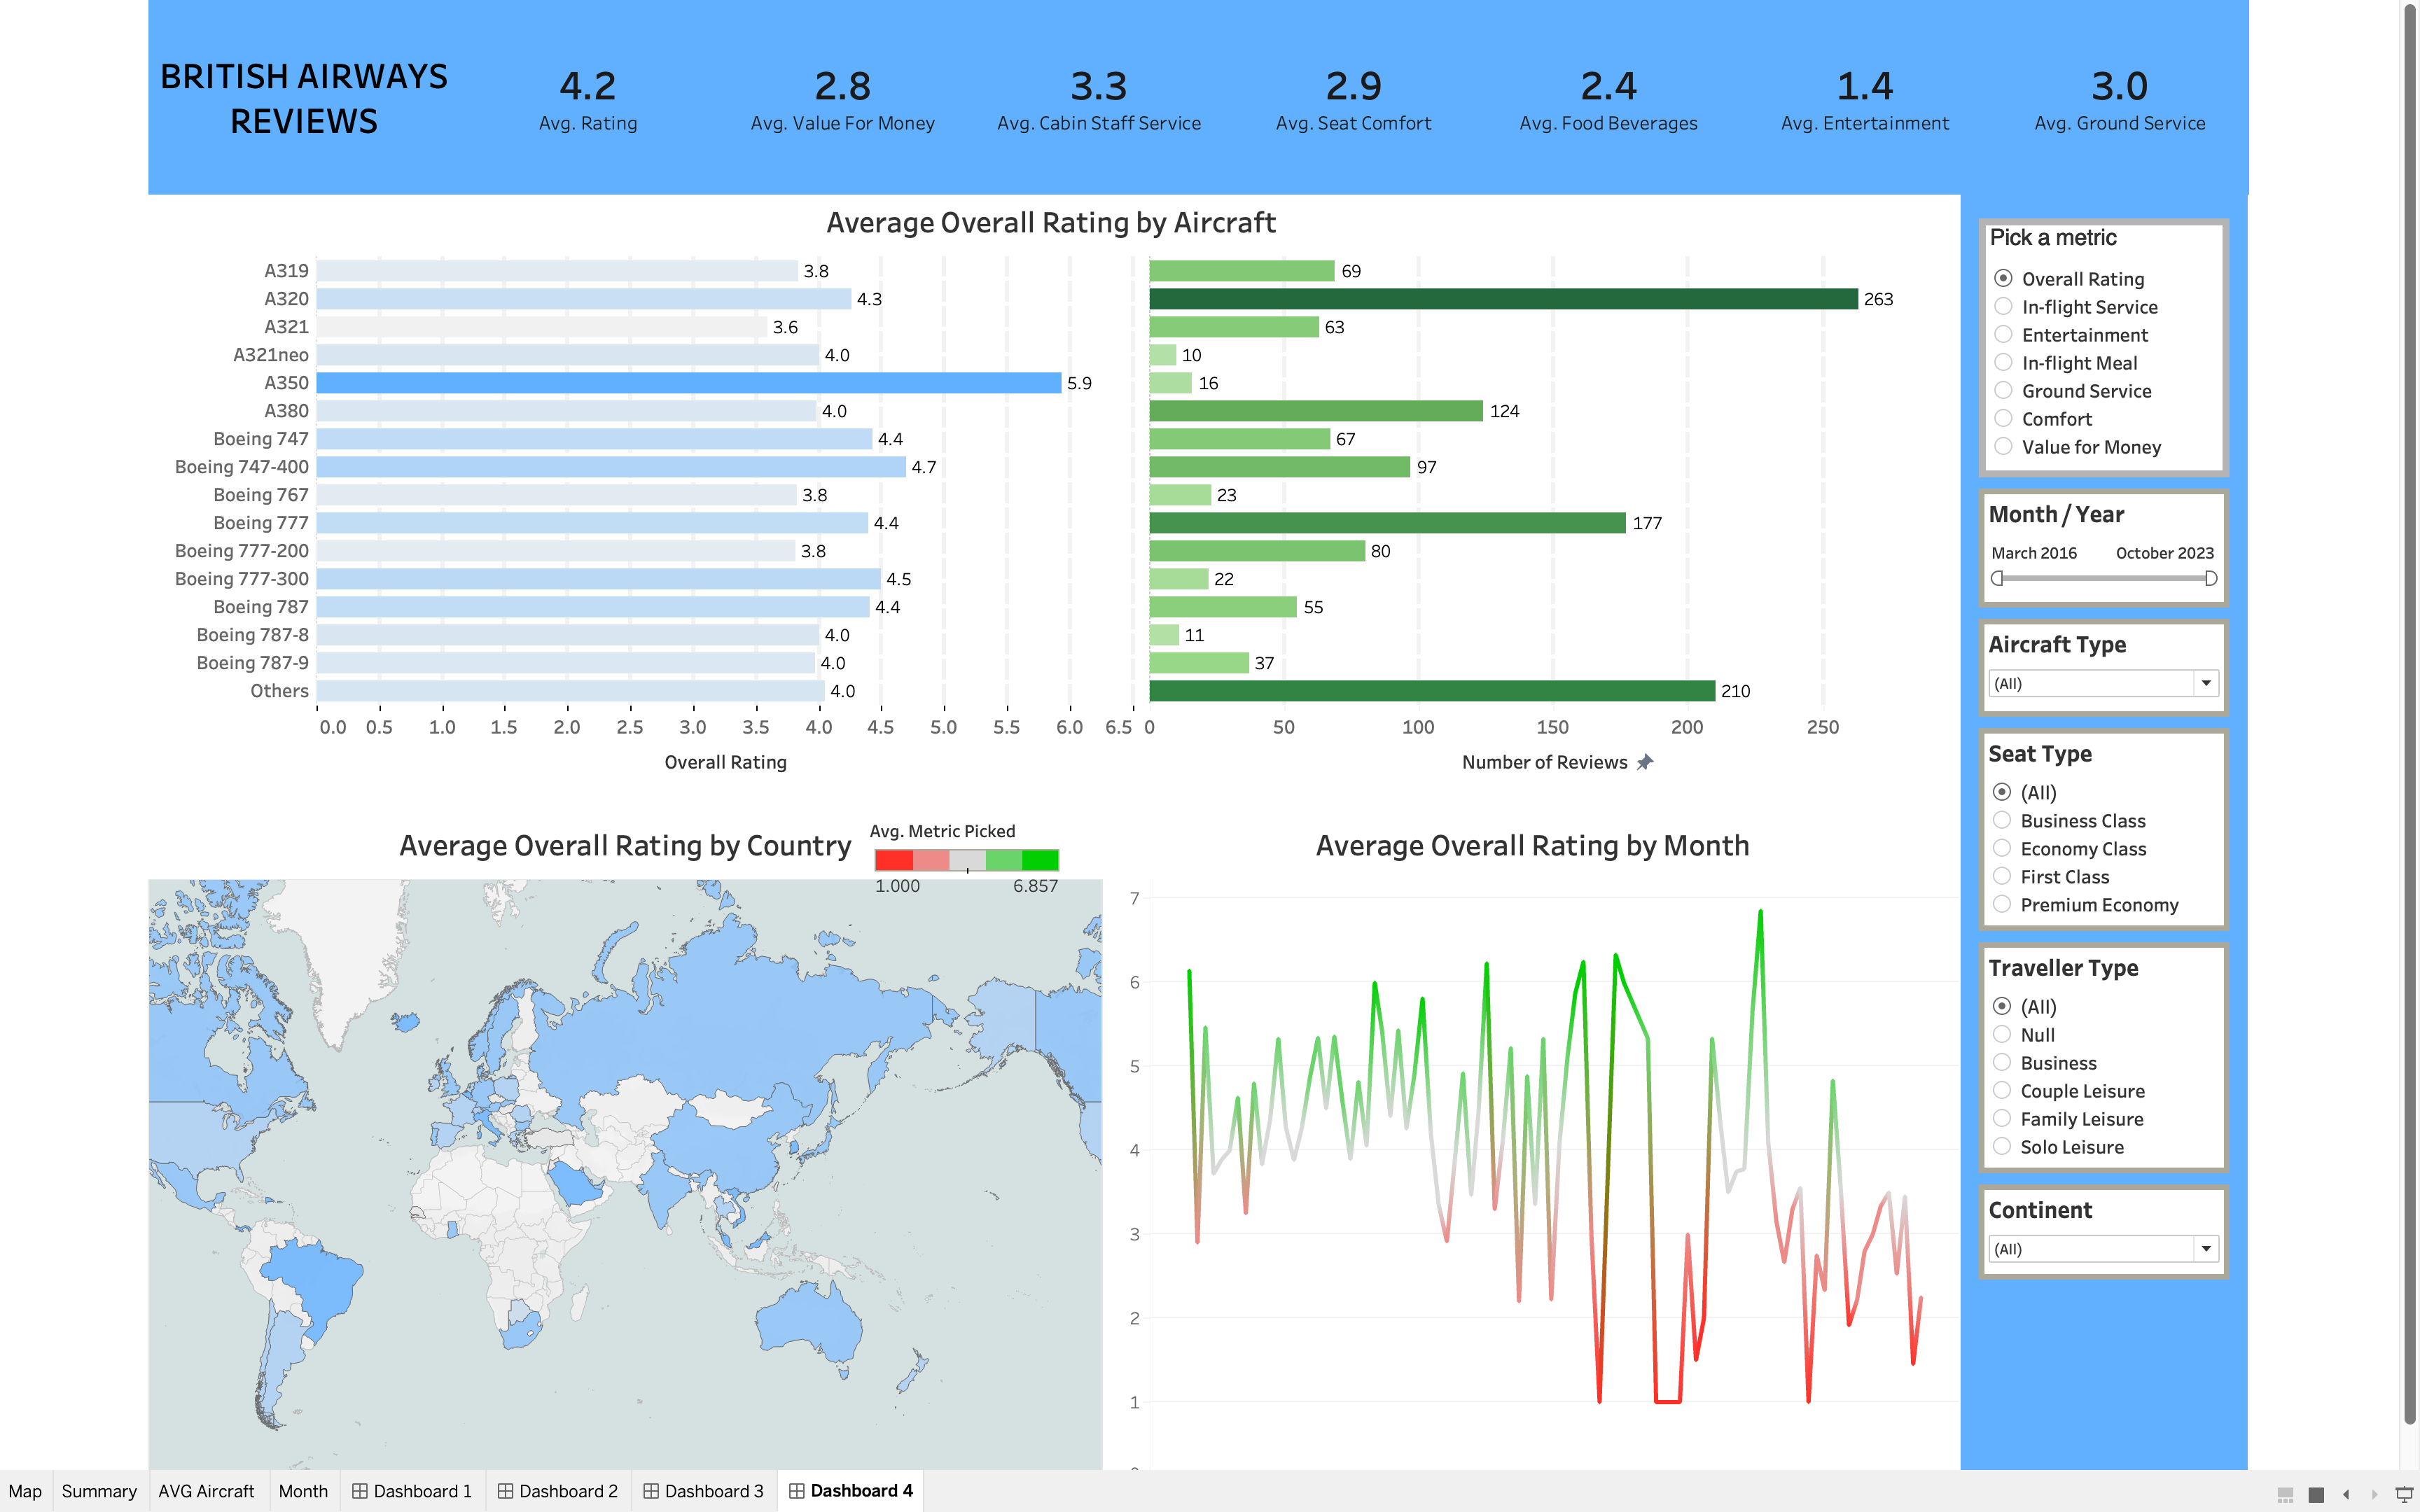

Layout of this report page (visuals, bound fields, positions):
{"tool":"tableau","page":{"name":"Dashboard 4","canvas":[1500,1080],"ordinal":3},"visuals":[{"type":"text","box":[0,0,223.4,139]},{"type":"worksheet","title":"Summary","mark":"Automatic","box":[223,0,1277,139]},{"type":"worksheet","title":"AVG Aircraft","mark":"Automatic","cols":["Calculation_898468168573546498","ba_reviews.csv_0AE771B795694863B366D2EED4C253A7"],"box":[0,140,1290,435]},{"type":"parameter","param":"[Parameters].[Parameter 1]","box":[1303,148,187,197]},{"type":"filter","title":"Map","param":"[federated.1e3s0g01hr8xs614hx1d90yz8qfn].[tmn:date:qk]","box":[1303,345,187,93]},{"type":"filter","title":"Map","param":"[federated.1e3s0g01hr8xs614hx1d90yz8qfn].[Aircraft (group)]","box":[1303,438,187,78]},{"type":"filter","title":"Map","param":"[federated.1e3s0g01hr8xs614hx1d90yz8qfn].[none:seat_type:nk]","box":[1303,516,187,153]},{"type":"filter","title":"Map","param":"[federated.1e3s0g01hr8xs614hx1d90yz8qfn].[none:traveller_type:nk]","box":[1303,669,187,173]},{"type":"filter","title":"Map","param":"[federated.1e3s0g01hr8xs614hx1d90yz8qfn].[none:Continent:nk]","box":[1303,842,187,76]}]}

Visuals, with their boxes on the page's 1500x1080 design canvas (x1, y1, x2, y2). These are canvas units, not pixel positions in the 2420x1512 screenshot, which may show the page scaled, cropped or inside an application window:
text: bbox=[0, 0, 223, 139]
"Summary" worksheet: bbox=[223, 0, 1500, 139]
"AVG Aircraft" worksheet: bbox=[0, 140, 1290, 575]
parameter: bbox=[1303, 148, 1490, 345]
"Map" filter: bbox=[1303, 345, 1490, 438]
"Map" filter: bbox=[1303, 438, 1490, 516]
"Map" filter: bbox=[1303, 516, 1490, 669]
"Map" filter: bbox=[1303, 669, 1490, 842]
"Map" filter: bbox=[1303, 842, 1490, 918]
